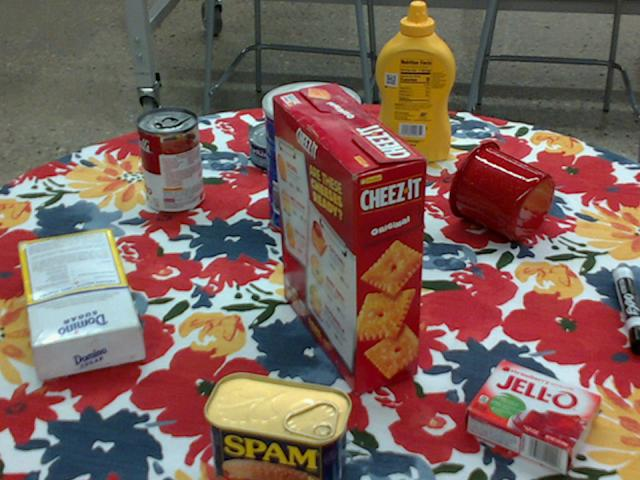cracker_box: (271, 86, 423, 396)
gelatin_box: (464, 359, 601, 471)
large_marker: (613, 264, 639, 350)
master_chef_can: (262, 81, 360, 238)
mug: (448, 140, 554, 240)
mustard_bottle: (374, 2, 454, 162)
potted_meat_can: (200, 374, 348, 479)
sugar_box: (20, 231, 144, 378)
tomato_soup_can: (136, 107, 203, 213)
tuna_fish_can: (250, 120, 318, 172)
